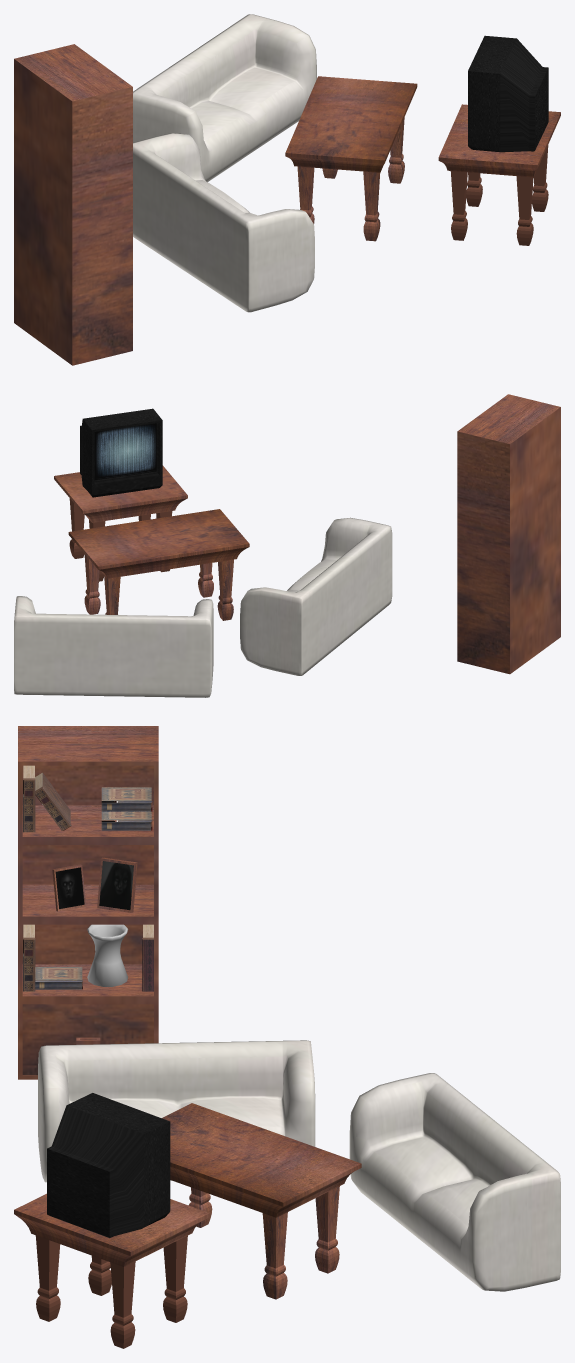
Rendered from LivingRoom 1.fbx.
3 renders of one model, top to bottom at view 1: azimuth 30°, elevation 25°; view 2: azimuth 150°, elevation 25°; view 3: azimuth 270°, elevation 25°, orthographic. The views are drawn at different scales.
Visible parts, largest first — view 1: LittleTableDining.005; view 2: LittleTableDining.005; view 3: LittleTableDining.005.
Part boxes in pixels (x1=…): LittleTableDining.005: x1=14, y1=14, x2=560, y2=365; LittleTableDining.005: x1=14, y1=394, x2=560, y2=697; LittleTableDining.005: x1=14, y1=726, x2=560, y2=1348.
Bounding box in the file's own units: 354 × 167 × 260.
